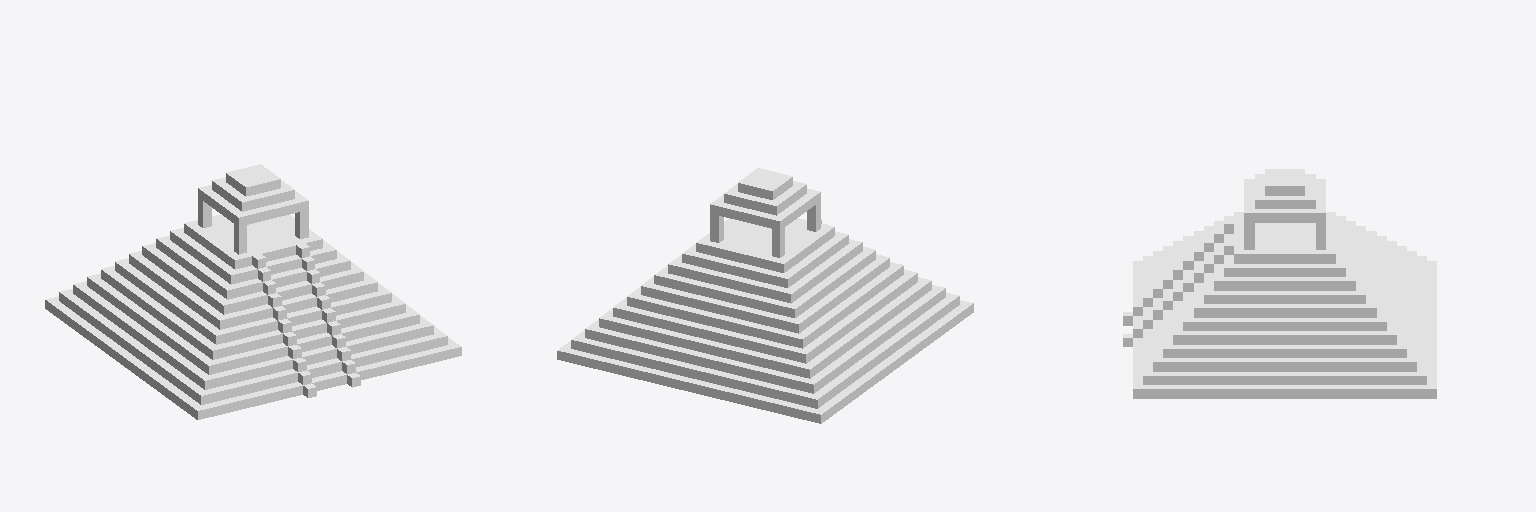
3 renders of one model, left to right at view 1: azimuth 30°, elevation 25°; view 2: azimuth 150°, elevation 25°; view 3: azimuth 270°, elevation 25°, orthographic.
Parts seen in each view (by area): view 1: mesh; view 2: mesh; view 3: mesh.
Boxes of the visible parts, box(x1,y1,x2,y2) form: mesh: box(45, 164, 461, 419); mesh: box(557, 168, 973, 423); mesh: box(1123, 169, 1436, 398).
Size of the model in its own units: 3 by 1.7 by 3.1.
Materials: 2 (1 with a texture image).